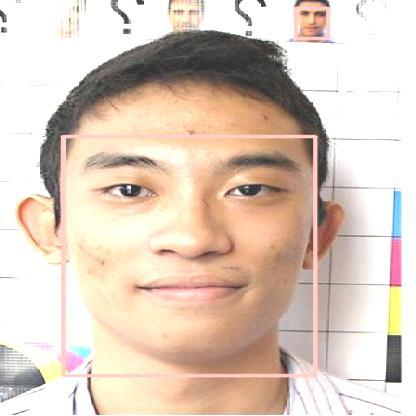without_mask: (63, 136, 315, 375), (295, 8, 328, 38)
